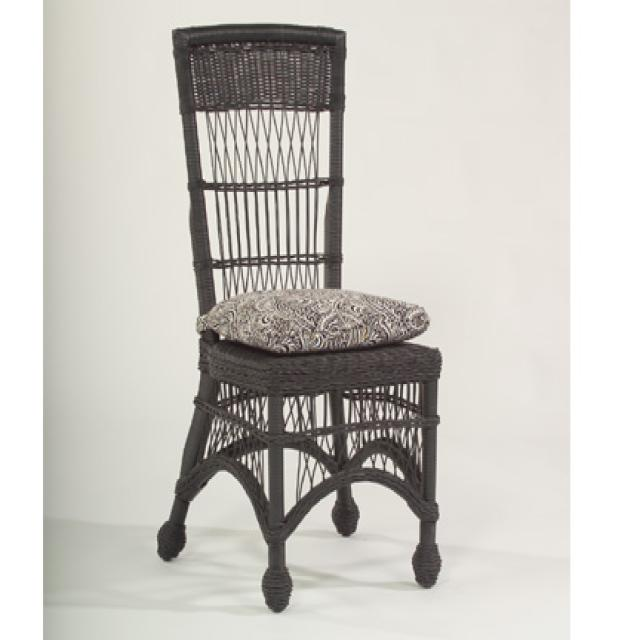chair: (153, 22, 444, 613)
